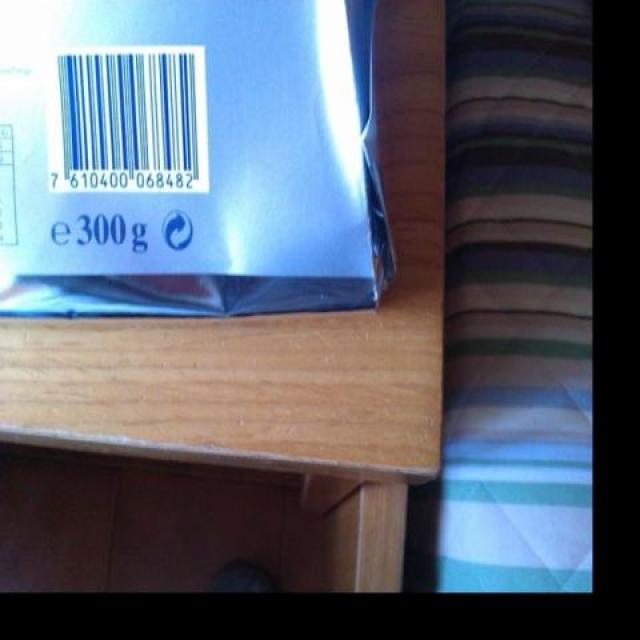Barcode: (46, 46, 210, 191)
